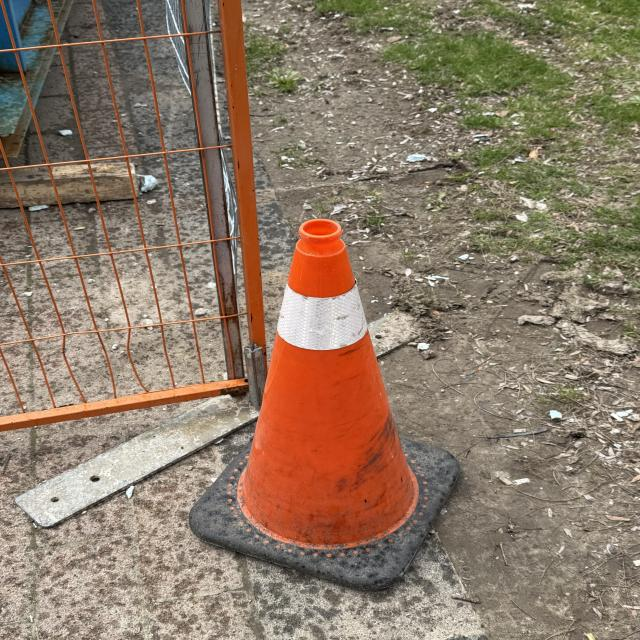Traffic Cone: (187, 220, 465, 589)
